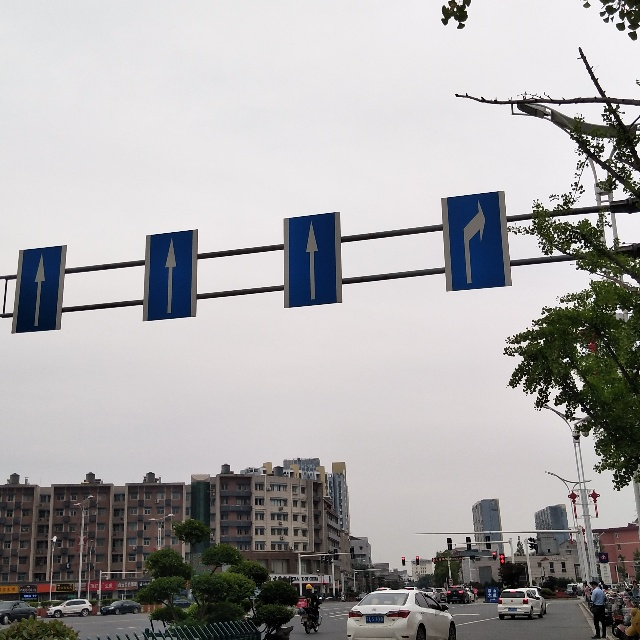right: (448, 195, 503, 289)
straight: (286, 219, 339, 304), (147, 234, 192, 320), (22, 250, 57, 331)
